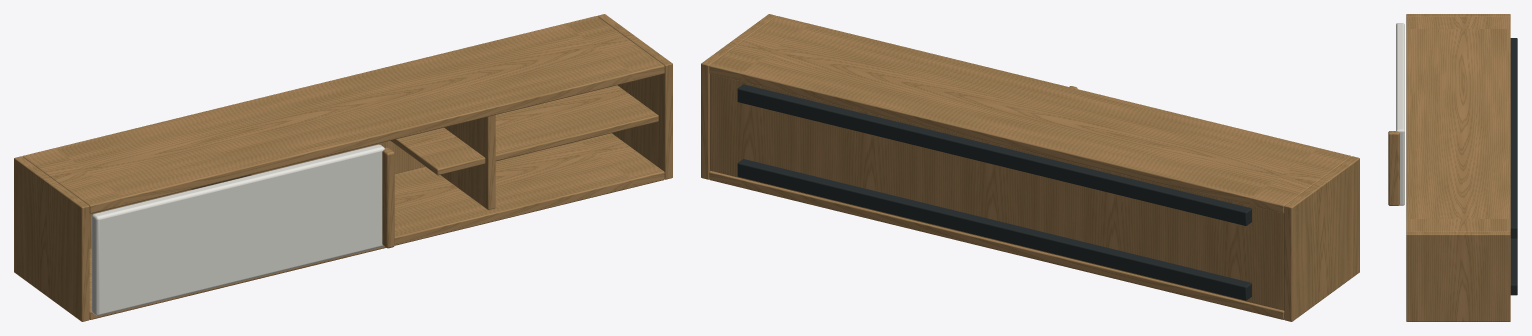
File: lv_console.glb
3 renders of one model, left to right at view 1: azimuth 30°, elevation 25°; view 2: azimuth 150°, elevation 25°; view 3: azimuth 270°, elevation 25°, orthographic. The views are drawn at different scales.
Parts seen in each view (by area): view 1: Case | horizontal panel.001, Sliding front | ivory, Case | horizontal panel, Right bay | centre shelf, Case | side, Case | side.001, Storage bay divider.001, Sliding front | raised oak edge, Case | inset back; view 2: Case | horizontal panel.001, Case | inset back, Rear | wall mounting cleat, Rear | wall mounting cleat.001, Case | side, Case | horizontal panel, Case | side.001; view 3: Case | horizontal panel.001, Case | side.001, Rear | wall mounting cleat.001, Sliding front | ivory, Sliding front | raised oak edge, Rear | wall mounting cleat, Case | side.
Boxes of the visible parts, bbox=[...] form: Case | horizontal panel.001: bbox=[22, 16, 664, 213]; Sliding front | ivory: bbox=[91, 144, 384, 315]; Case | horizontal panel: bbox=[89, 133, 664, 319]; Right bay | centre shelf: bbox=[390, 85, 658, 175]; Case | side: bbox=[14, 156, 89, 321]; Case | side.001: bbox=[597, 14, 672, 179]; Storage bay divider.001: bbox=[440, 115, 495, 209]; Sliding front | raised oak edge: bbox=[382, 147, 394, 248]; Case | inset back: bbox=[89, 141, 424, 248]; Case | horizontal panel.001: bbox=[709, 16, 1351, 213]; Case | inset back: bbox=[710, 74, 1284, 310]; Rear | wall mounting cleat: bbox=[737, 159, 1251, 300]; Rear | wall mounting cleat.001: bbox=[737, 84, 1251, 225]; Case | side: bbox=[1284, 156, 1359, 321]; Case | horizontal panel: bbox=[709, 171, 1284, 319]; Case | side.001: bbox=[701, 14, 776, 179]; Case | horizontal panel.001: bbox=[1406, 17, 1510, 231]; Case | side.001: bbox=[1406, 231, 1510, 321]; Rear | wall mounting cleat.001: bbox=[1510, 38, 1517, 238]; Sliding front | ivory: bbox=[1396, 23, 1404, 205]; Sliding front | raised oak edge: bbox=[1388, 131, 1399, 205]; Rear | wall mounting cleat: bbox=[1510, 238, 1517, 295]; Case | side: bbox=[1406, 14, 1510, 16].
Size of the model in its own units: 1.8 by 0.334 by 0.446.
3 materials, 1 textured.
